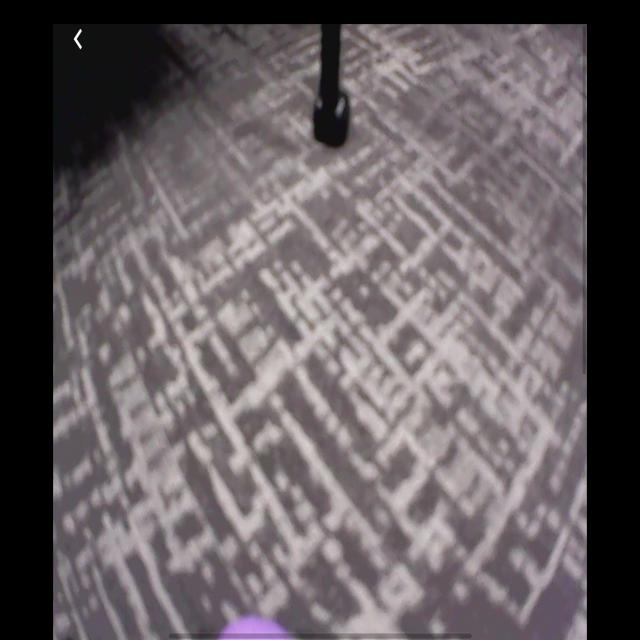ball: (215, 616, 300, 640)
